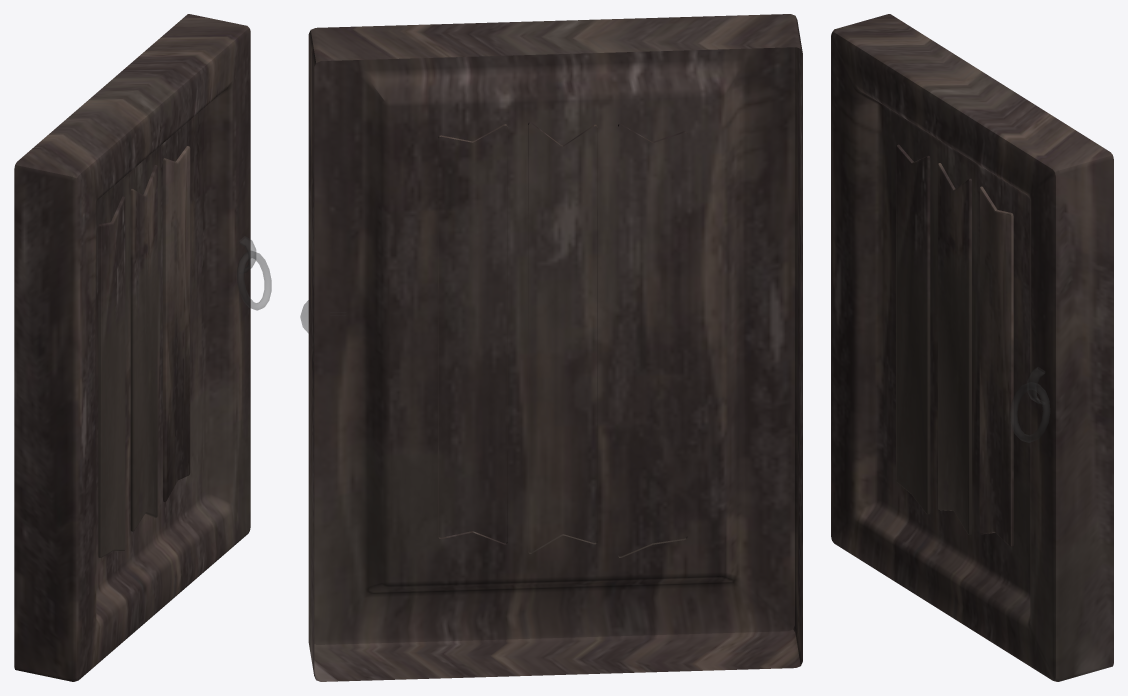
Rendered from cabient1-door-l.glb.
3 views of the same model, side by side, from view 1: azimuth 30°, elevation 25°; view 2: azimuth 150°, elevation 25°; view 3: azimuth 270°, elevation 25° (orthographic). The views are drawn at different scales.
Visible parts, largest first — view 1: cabeintDoor.002; view 2: cabeintDoor.002; view 3: cabeintDoor.002.
Part boxes in pixels (x1,y1,x2,y2): cabeintDoor.002: (14,14,271,681); cabeintDoor.002: (300,14,802,681); cabeintDoor.002: (831,14,1113,681).
Bounding box in the file's own units: 0.4978 × 0.7261 × 0.362.
Materials: 2 (1 with a texture image).
